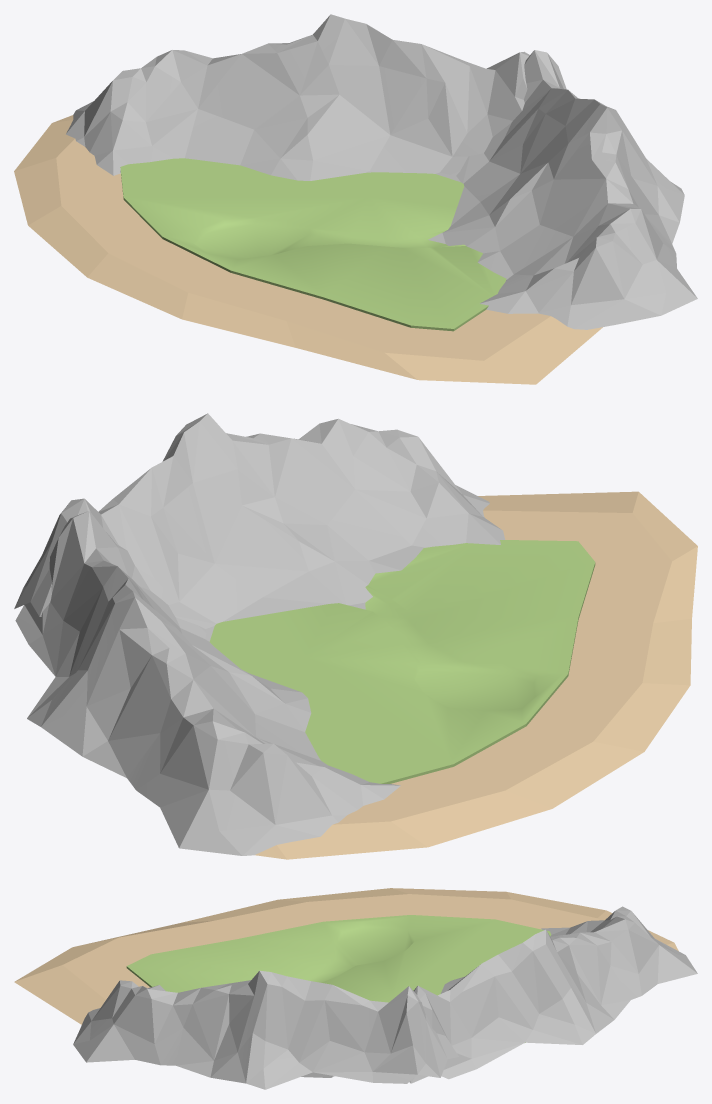
File: Island-modified4.fbx
The picture shows the model from 3 angles, top to bottom: view 1: azimuth 30°, elevation 25°; view 2: azimuth 150°, elevation 25°; view 3: azimuth 270°, elevation 25°; orthographic projection. The views are drawn at different scales.
Visible parts, largest first — view 1: island_base, terrain_mountain_range__2_, terrain_mountain_range__1_; view 2: island_base, terrain_mountain_range__2_, terrain_mountain_range__1_; view 3: island_base, terrain_mountain_range__1_, terrain_mountain_range__2_.
Part boxes in pixels (<box>): island_base: <box>14,115,602,384</box>; terrain_mountain_range__2_: <box>66,14,529,180</box>; terrain_mountain_range__1_: <box>428,50,697,329</box>; island_base: <box>209,491,697,859</box>; terrain_mountain_range__2_: <box>15,511,400,855</box>; terrain_mountain_range__1_: <box>14,413,505,641</box>; island_base: <box>14,888,678,1042</box>; terrain_mountain_range__1_: <box>73,970,458,1089</box>; terrain_mountain_range__2_: <box>301,906,697,1083</box>.
Bounding box in the file's own units: 11569 × 2619 × 15518.
